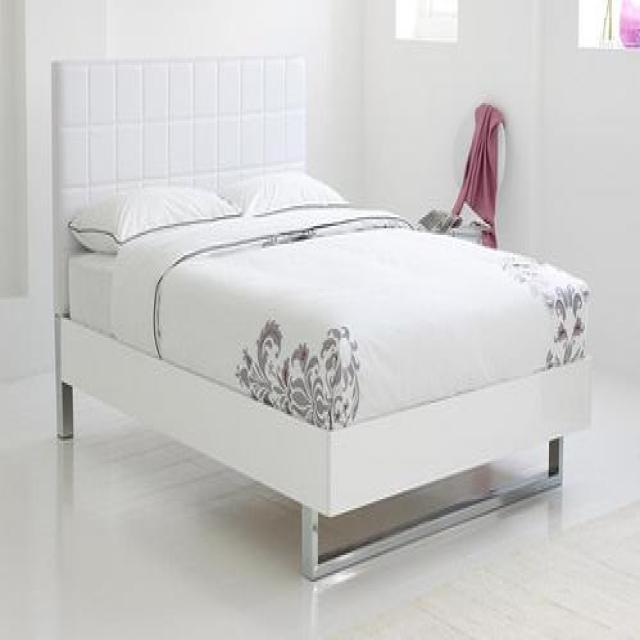bed: (50, 53, 593, 580)
